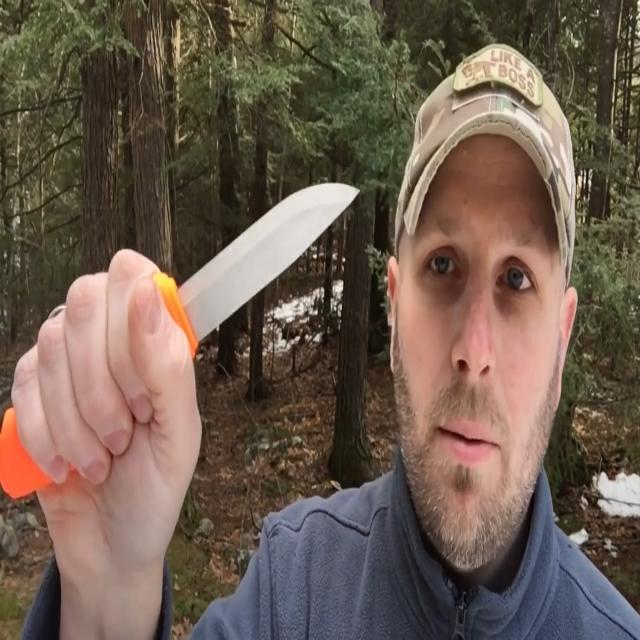knife: (176, 169, 366, 352)
